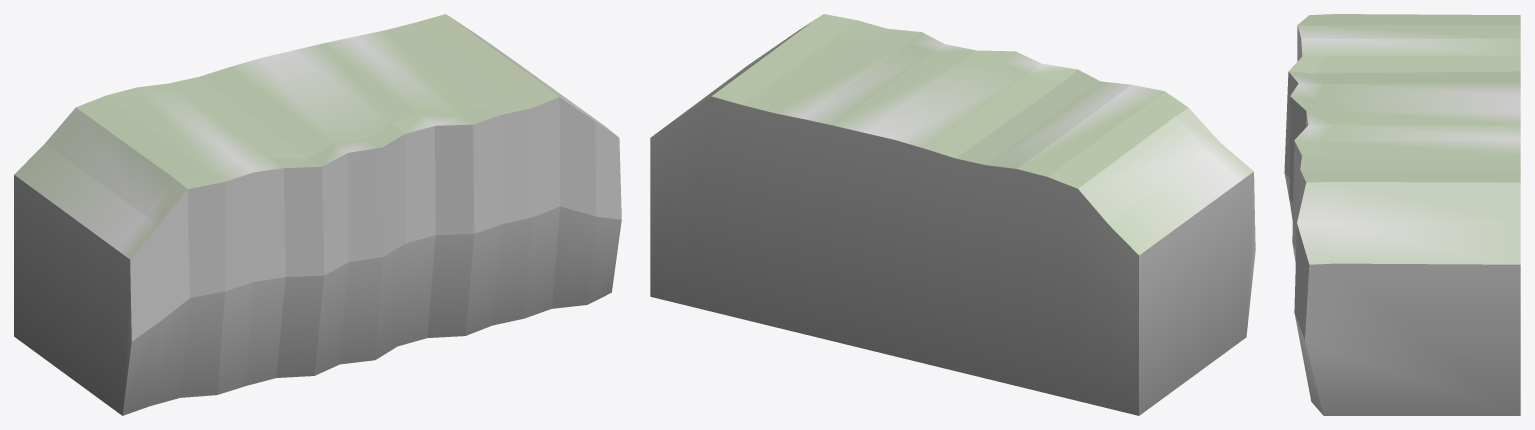
File: ledge_rock_tall.glb
3 renders of one model, left to right at view 1: azimuth 30°, elevation 25°; view 2: azimuth 150°, elevation 25°; view 3: azimuth 270°, elevation 25°, orthographic. The views are drawn at different scales.
Parts seen in each view (by area): view 1: ledge_rock_tall; view 2: ledge_rock_tall; view 3: ledge_rock_tall.
Part boxes in pixels (box(x1,y1,x2,y2)): ledge_rock_tall: box(14, 14, 621, 415); ledge_rock_tall: box(650, 14, 1255, 415); ledge_rock_tall: box(1284, 14, 1520, 415).
Size of the model in its own units: 6 by 2.55 by 2.64.
